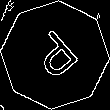P_SE: (24, 24, 86, 86)
